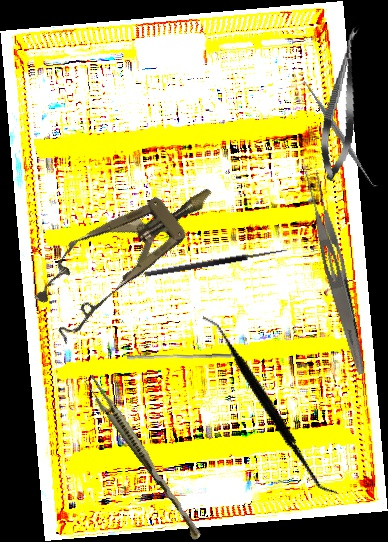Dressing Forceps: (299, 167, 375, 377)
Hook Surgical: (142, 239, 290, 279)
Micro Scissor: (314, 24, 370, 183)
Pusher: (126, 349, 240, 363)
Spatula Surgical: (158, 313, 382, 496), (298, 76, 382, 193)
Speculum: (18, 157, 235, 346)
Tissue Forceps: (80, 374, 208, 541)
